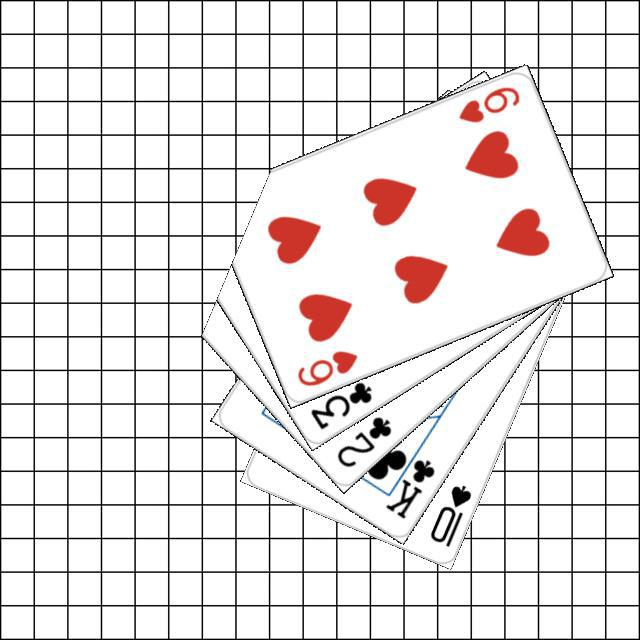10s: (425, 480, 473, 549)
2c: (331, 411, 394, 469)
3c: (305, 376, 374, 432)
6h: (453, 81, 522, 125), (292, 345, 360, 388)
Kc: (380, 441, 437, 521)
